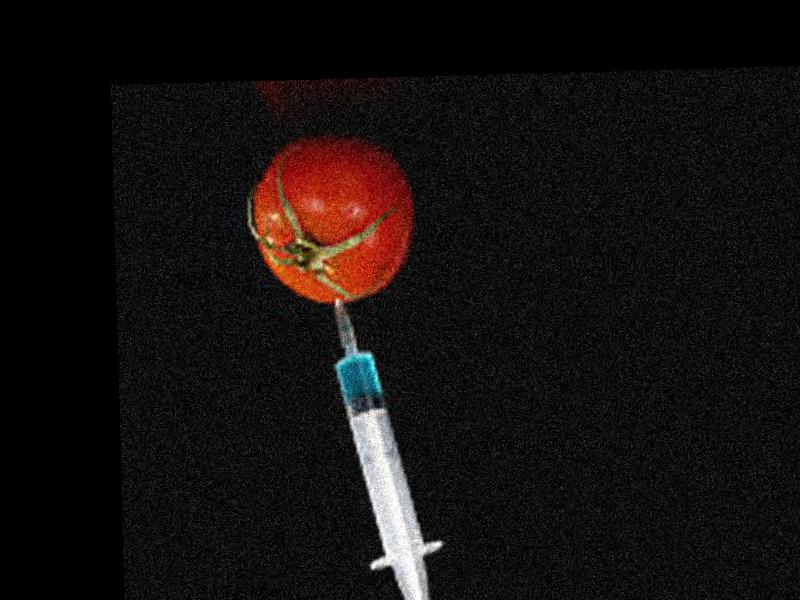Tomato: (246, 138, 417, 307)
